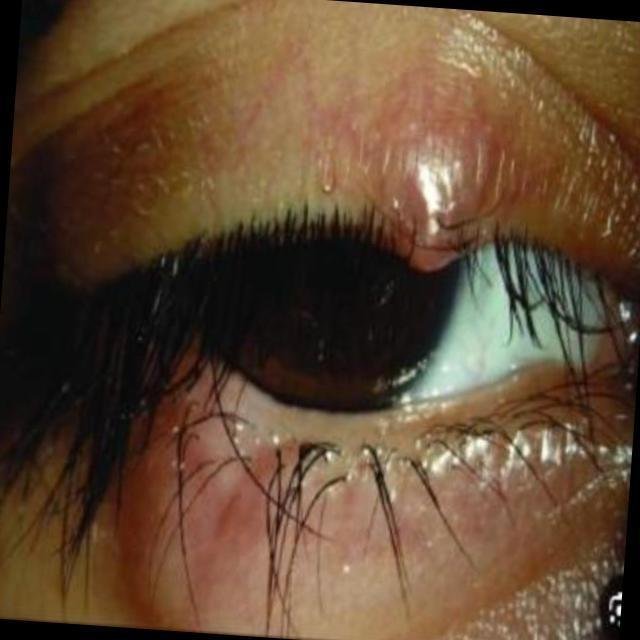Stye: (300, 74, 580, 315)
